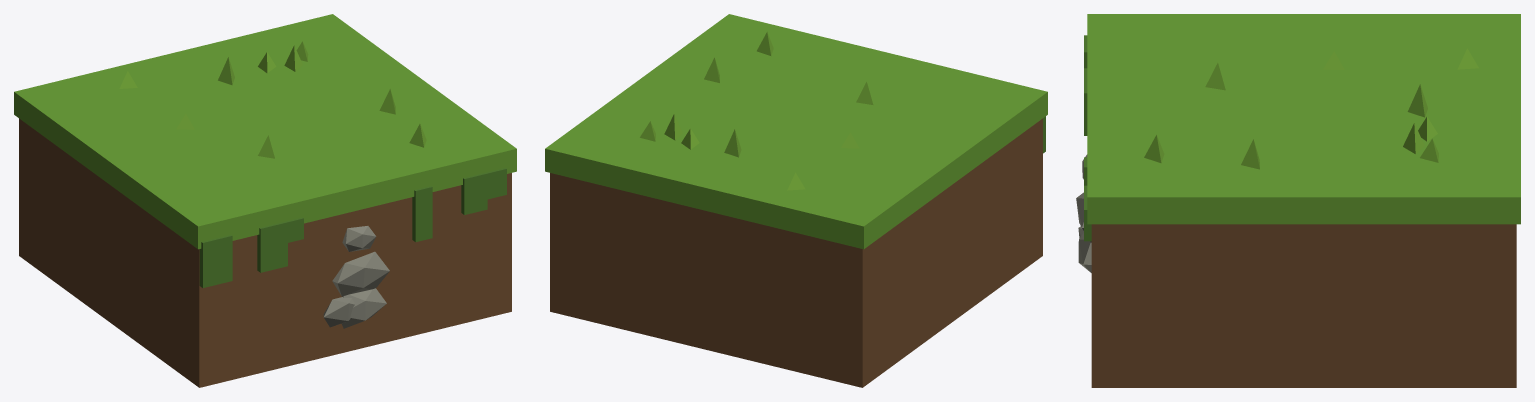
Rendered from ground_straight.glb.
3 renders of one model, left to right at view 1: azimuth 30°, elevation 25°; view 2: azimuth 150°, elevation 25°; view 3: azimuth 270°, elevation 25°, orthographic. The views are drawn at different scales.
Parts seen in each view (by area): view 1: grass-col, dirt-col, moss, stone, leaf_light; view 2: dirt-col, grass-col, leaf_light; view 3: grass-col, dirt-col, leaf_light, moss, stone.
Part boxes in pixels (box(x1,y1,x2,y2)): grass-col: box(14, 14, 516, 249); dirt-col: box(19, 118, 511, 387); moss: box(199, 168, 506, 287); stone: box(323, 226, 389, 328); leaf_light: box(119, 41, 426, 158); dirt-col: box(550, 118, 1042, 387); grass-col: box(545, 14, 1047, 249); leaf_light: box(640, 32, 873, 190); grass-col: box(1087, 14, 1520, 224); dirt-col: box(1091, 224, 1516, 387); leaf_light: box(1144, 48, 1478, 169); moss: box(1084, 35, 1091, 241); stone: box(1076, 154, 1091, 272).
Bounding box in the file's own units: 4.08 × 2.3 × 4.19.
